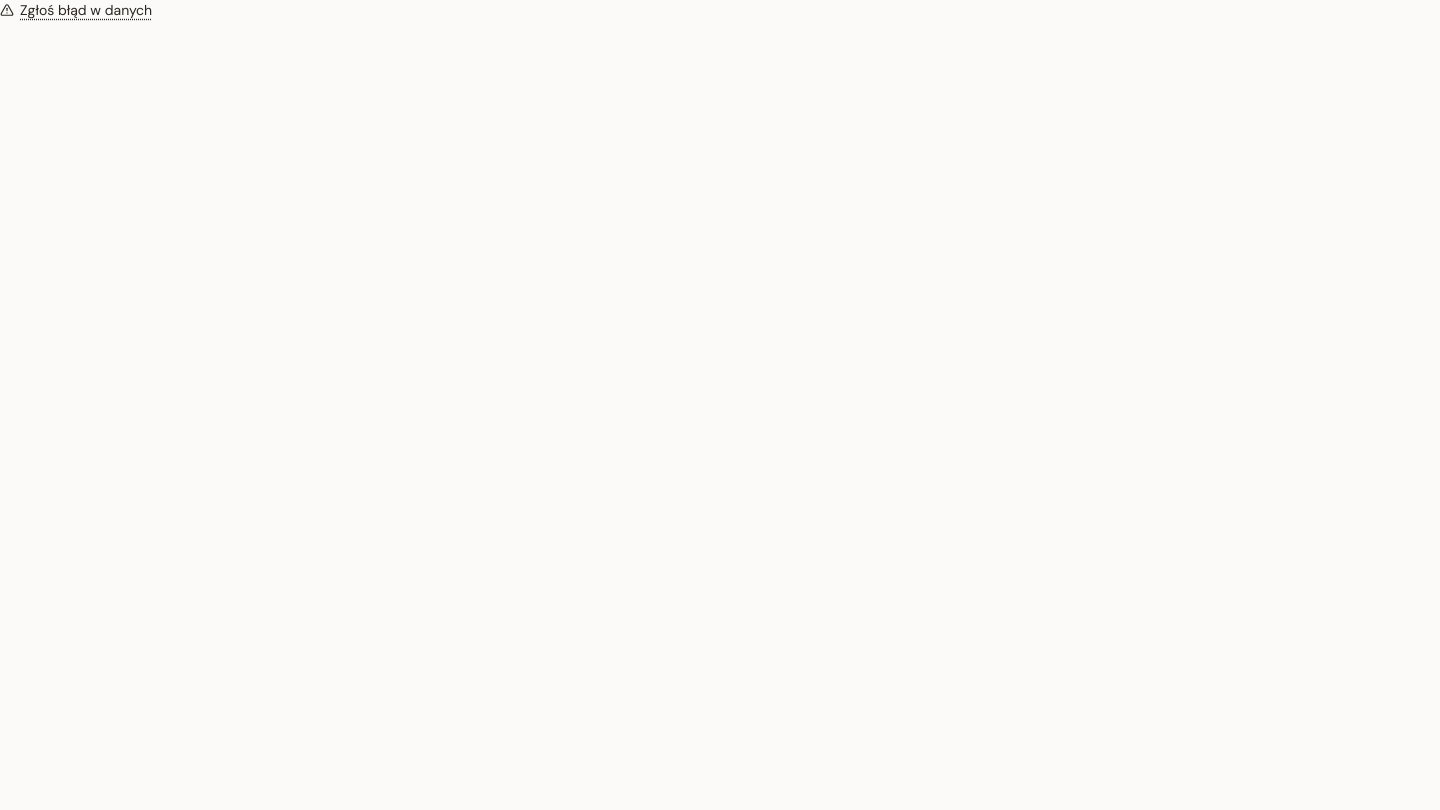
Scenario: AF-8-042/043/061 — klauzula RODO art. 13 w formularzach z e-mailem › „Zgłoś błąd w danych” ma link do /polityka-prywatnosci
Step 1. Click the button "Zgłoś błąd w danych" → (76, 10), box [0, 0, 152, 20]
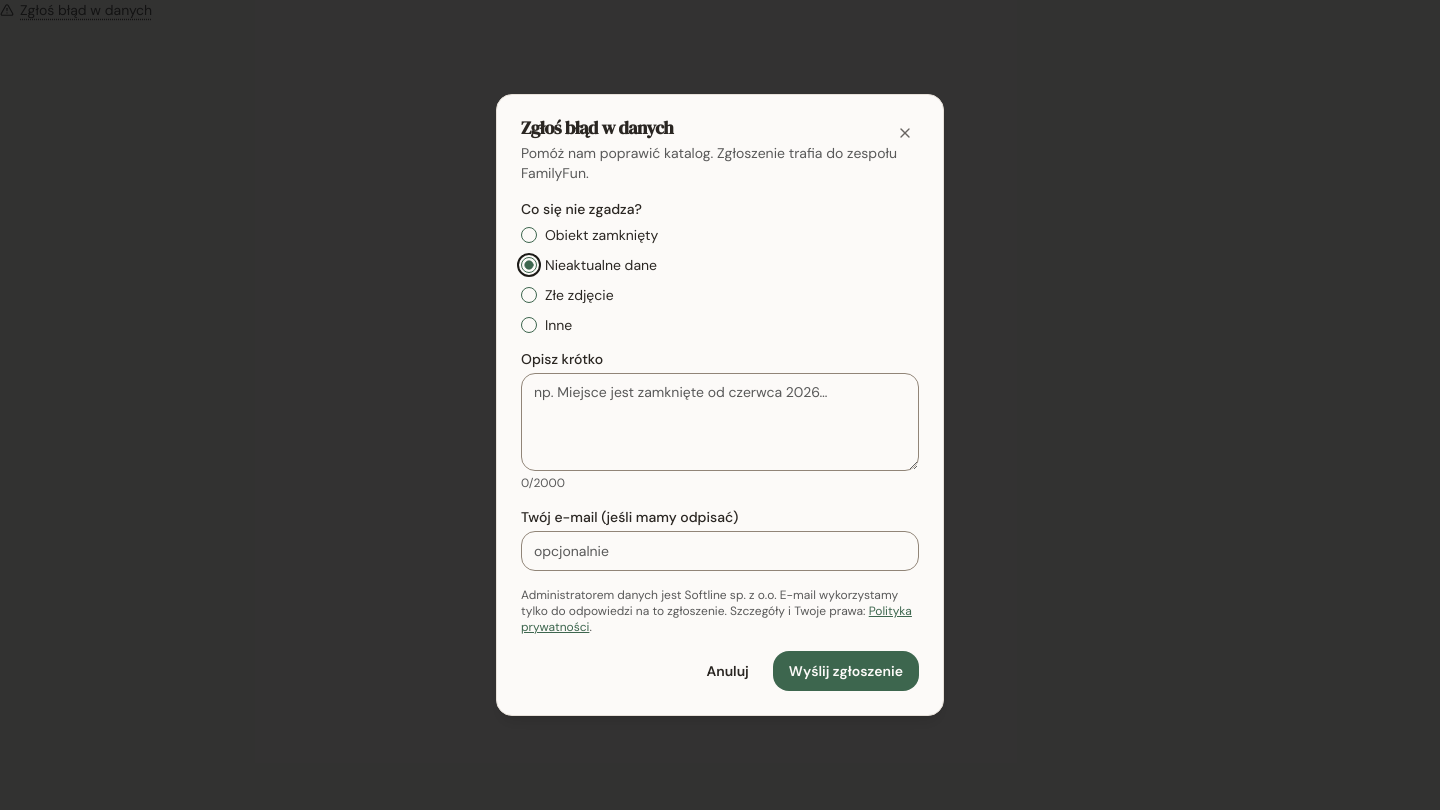
Expected: the text "Administratorem danych jest" is shown, [521, 587, 898, 619]
